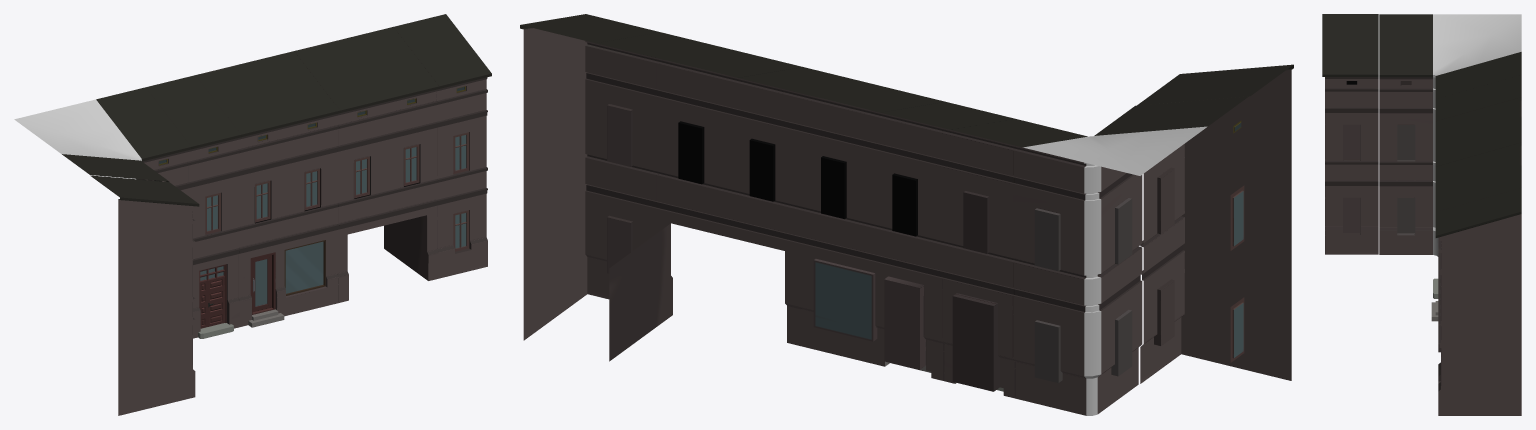
File: kamienica3-EXPANDED-a.fbx
3 views of the same model, side by side, from view 1: azimuth 30°, elevation 25°; view 2: azimuth 150°, elevation 25°; view 3: azimuth 270°, elevation 25° (orthographic). The views are drawn at different scales.
Visible parts, largest first — view 1: kamienica3-abandoned-shop, kamienica3-abandoned-shop.001, kamienica3-abandoned-side-l, kamienica3-abandoned-side-r, kamienica3-abandoned-entry, k3-shop-decor1, kamienica3-abandoned-mid, kamienica3-abandoned-corner, k3-entry-decor1, kamienica3-abandoned-mid.001, k3-mid-decor3, k3-shop-decor1.001; view 2: kamienica3-abandoned-shop, kamienica3-abandoned-side-l, kamienica3-abandoned-side-r, kamienica3-abandoned-shop.001, kamienica3-abandoned-mid, kamienica3-abandoned-entry, kamienica3-abandoned-mid.001, kamienica3-abandoned-corner, k3-mid-decor2; view 3: kamienica3-abandoned-side-r, kamienica3-abandoned-side-l, kamienica3-abandoned-mid.001, kamienica3-abandoned-corner, kamienica3-abandoned-shop, kamienica3-abandoned-shop.001, kamienica3-abandoned-entry, kamienica3-abandoned-mid.
Boxes of the visible parts, <box> form: kamienica3-abandoned-shop: <box>195,51,340,327</box>; kamienica3-abandoned-shop.001: <box>295,26,439,302</box>; kamienica3-abandoned-side-l: <box>90,175,199,415</box>; kamienica3-abandoned-side-r: <box>394,14,491,278</box>; kamienica3-abandoned-entry: <box>146,75,241,338</box>; k3-shop-decor1: <box>250,122,325,314</box>; kamienica3-abandoned-mid: <box>96,87,191,195</box>; kamienica3-abandoned-corner: <box>14,99,141,160</box>; k3-entry-decor1: <box>199,147,226,328</box>; kamienica3-abandoned-mid.001: <box>62,154,169,181</box>; k3-mid-decor3: <box>453,86,469,251</box>; k3-shop-decor1.001: <box>354,98,419,198</box>; kamienica3-abandoned-shop: <box>738,67,945,380</box>; kamienica3-abandoned-side-l: <box>1137,64,1293,383</box>; kamienica3-abandoned-side-r: <box>520,14,659,340</box>; kamienica3-abandoned-shop.001: <box>595,32,802,361</box>; kamienica3-abandoned-mid: <box>952,119,1087,415</box>; kamienica3-abandoned-entry: <box>881,102,1016,398</box>; kamienica3-abandoned-mid.001: <box>1094,96,1248,413</box>; kamienica3-abandoned-corner: <box>1023,126,1207,415</box>; k3-mid-decor2: <box>1230,120,1244,362</box>; kamienica3-abandoned-side-r: <box>1435,188,1521,415</box>; kamienica3-abandoned-side-l: <box>1322,14,1378,254</box>; kamienica3-abandoned-mid.001: <box>1379,14,1432,254</box>; kamienica3-abandoned-corner: <box>1433,14,1521,256</box>; kamienica3-abandoned-shop: <box>1431,97,1521,321</box>; kamienica3-abandoned-shop.001: <box>1435,142,1521,368</box>; kamienica3-abandoned-entry: <box>1433,74,1521,298</box>; kamienica3-abandoned-mid: <box>1435,52,1521,98</box>.
Size of the model in its own units: 1743 by 845 by 743.
